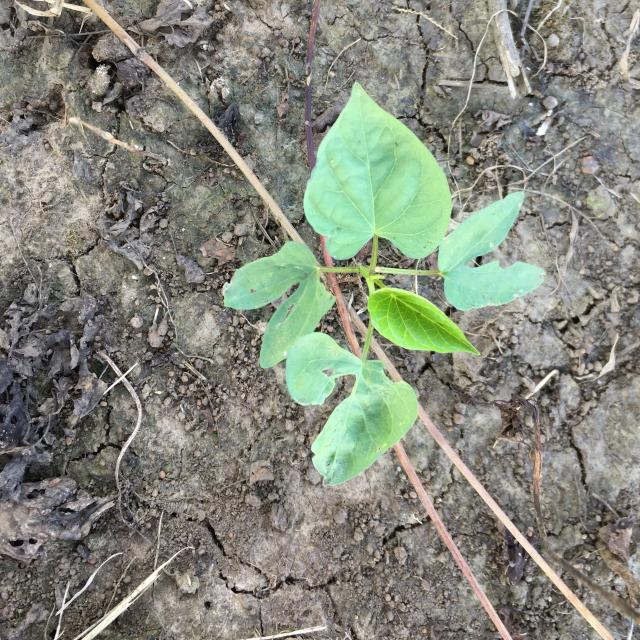MorningGlory: (224, 83, 545, 486)
